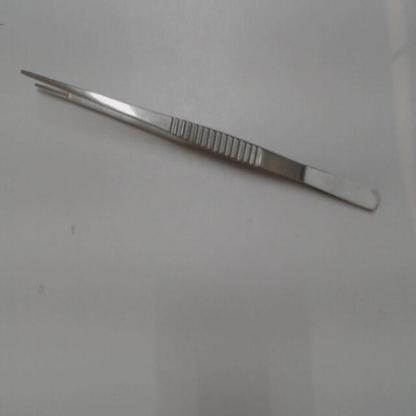DeBakey Dissector: (12, 41, 404, 244)
